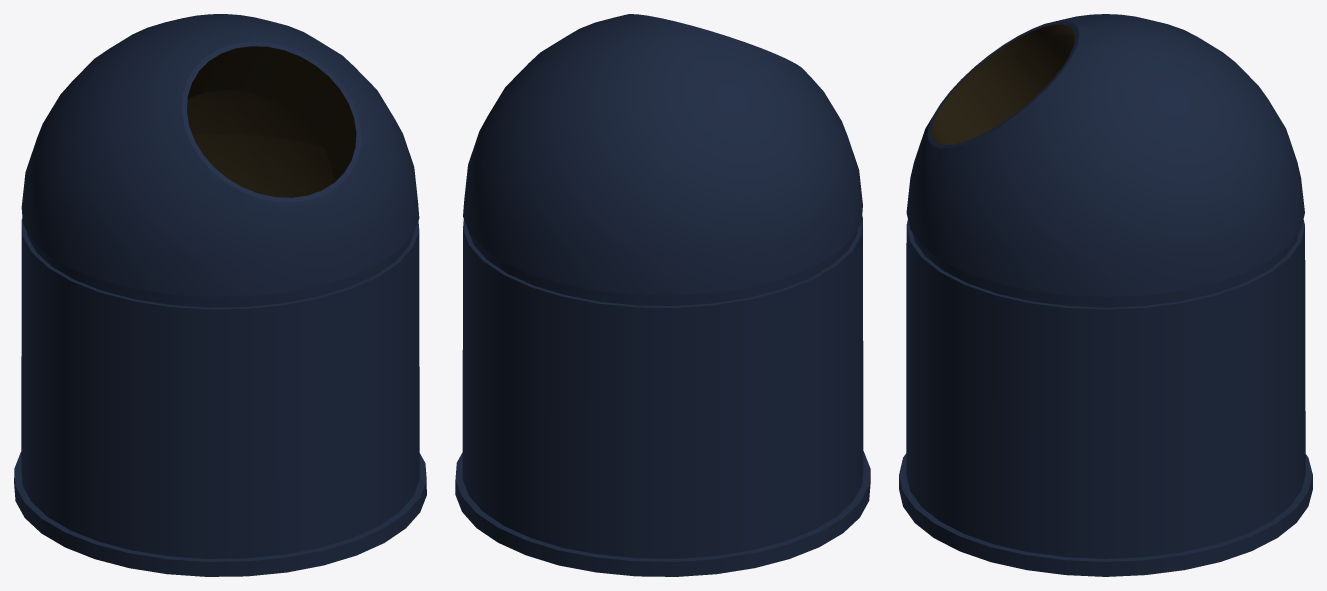
Rendered from trashcan_tier8.fbx.
3 renders of one model, left to right at view 1: azimuth 30°, elevation 25°; view 2: azimuth 150°, elevation 25°; view 3: azimuth 270°, elevation 25°, orthographic.
Visible parts, largest first — view 1: Sphere; view 2: Sphere; view 3: Sphere.
Part boxes in pixels (box(x1,y1,x2,y2)): Sphere: box(14, 14, 426, 576); Sphere: box(455, 14, 870, 576); Sphere: box(899, 14, 1312, 576).
Bounding box in the file's own units: 0.6923 × 0.8437 × 0.6923.
